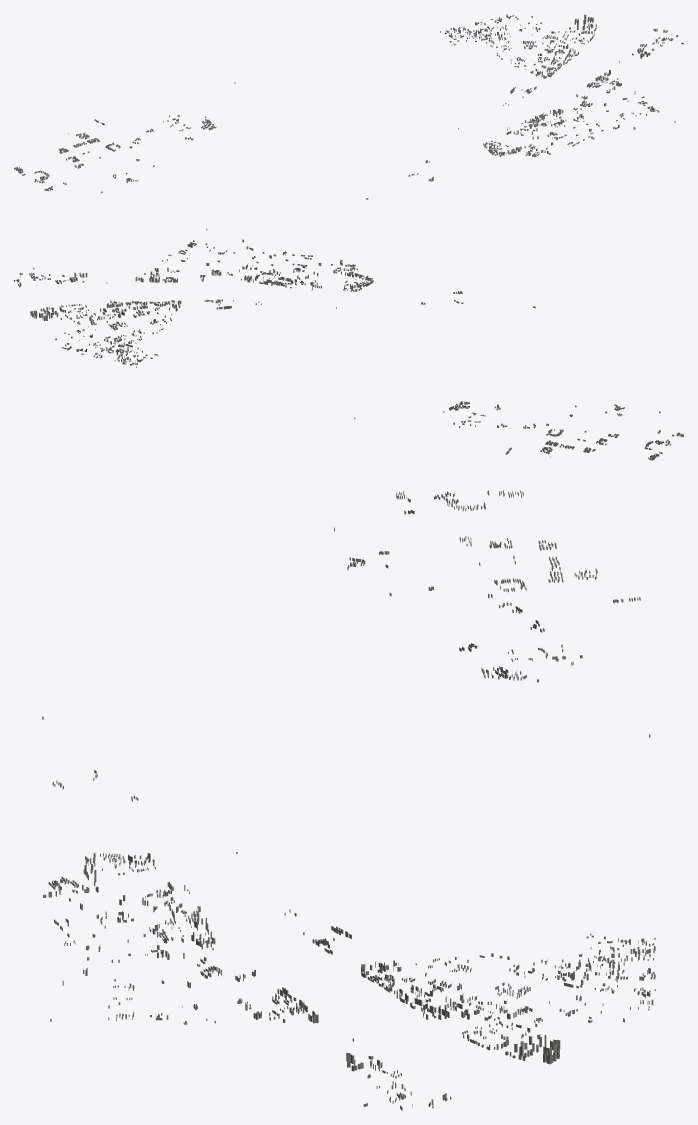
The model's file is NoLod_57.glb.
The picture shows the model from 3 angles, top to bottom: view 1: azimuth 30°, elevation 25°; view 2: azimuth 150°, elevation 25°; view 3: azimuth 270°, elevation 25°; orthographic projection. The views are drawn at different scales.
Visible parts, largest first — view 1: rtc; view 2: rtc; view 3: rtc.
Part boxes in pixels (x1=…): rtc: x1=14, y1=14, x2=683, y2=199; rtc: x1=14, y1=228, x2=683, y2=460; rtc: x1=42, y1=490, x2=655, y2=1110.
Size of the model in its own units: 23387 by 263 by 9792.
Materials: 1 (1 with a texture image).
